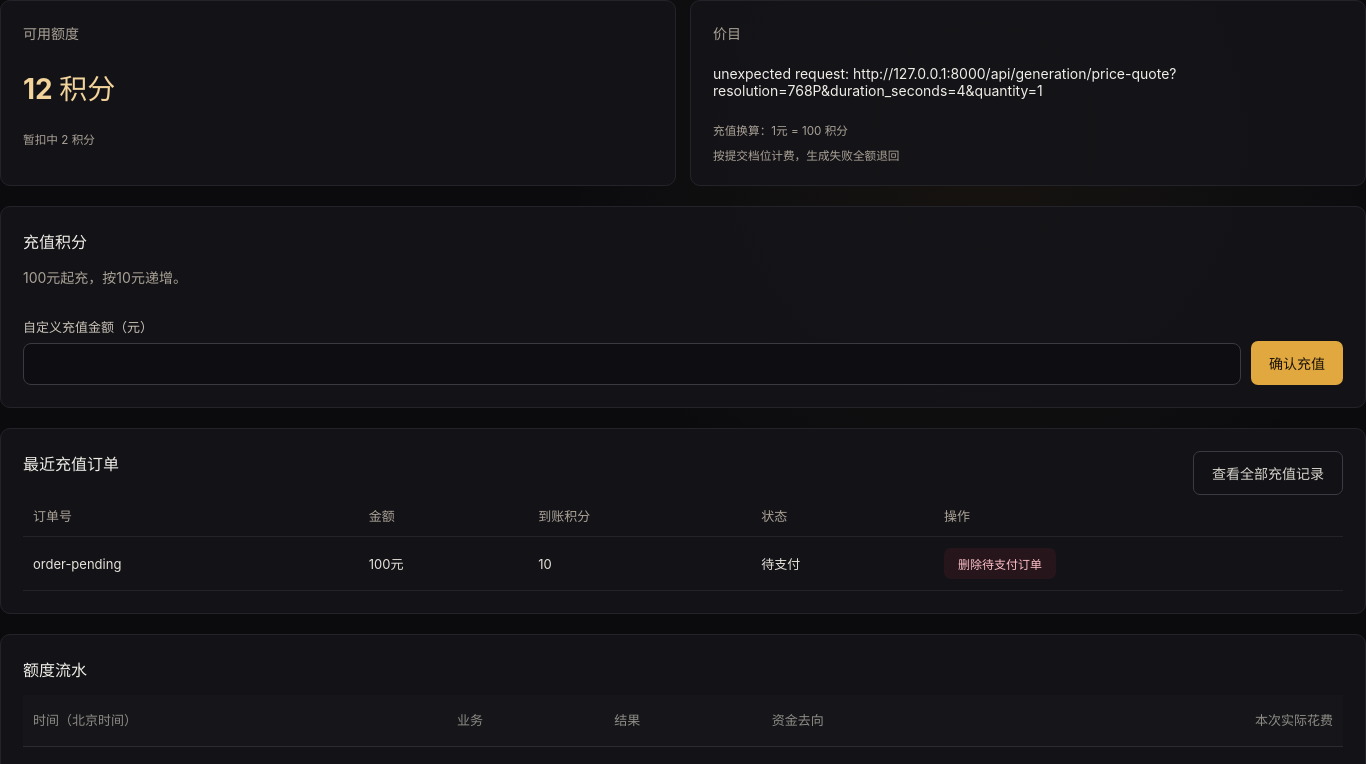
Test: CustomerWalletPanel › deletes an unpaid order from the visible list after closing it
Expected: the text "order-pending" is shown, [23,536,359,590]
Click the button "删除待支付订单".
click(1000, 564)  # box [944,548,1056,579]
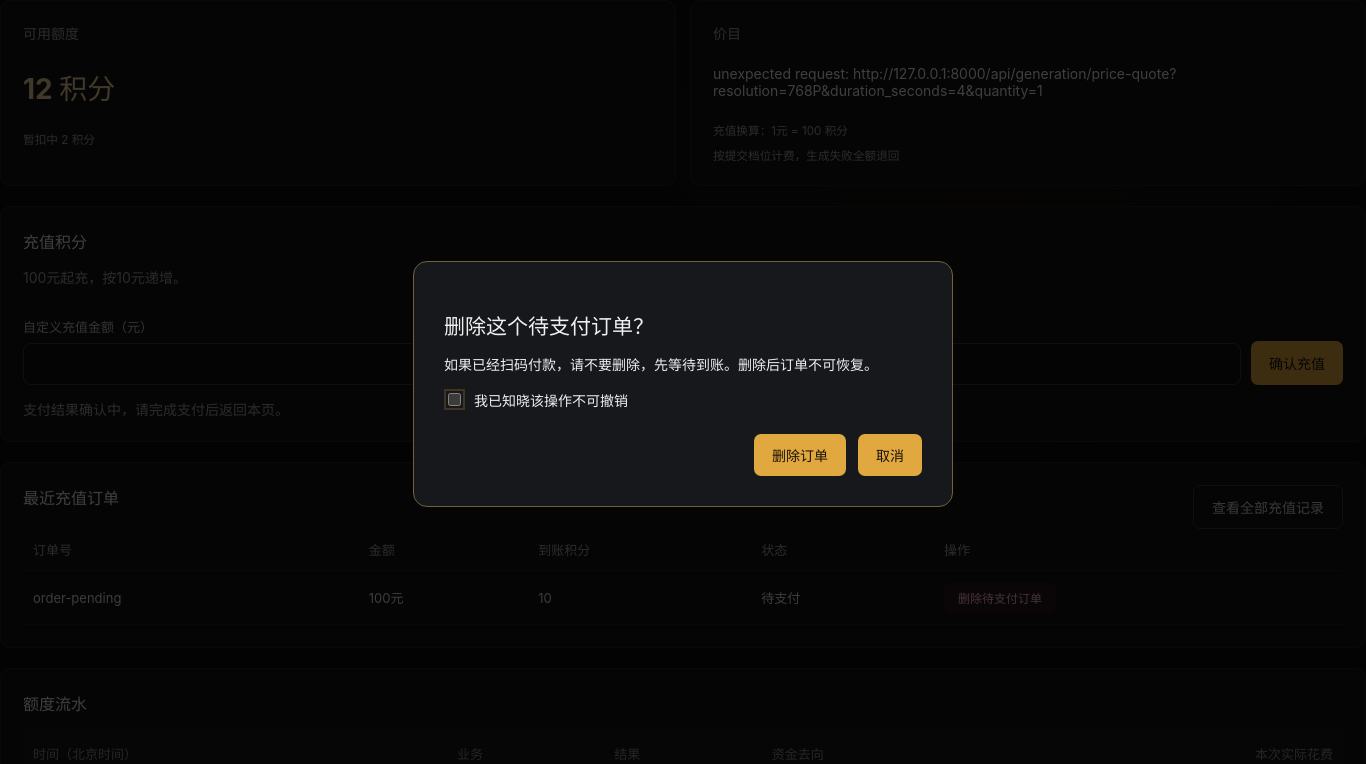
Click the checkbox.
click(454, 400)  # box [448,393,461,406]
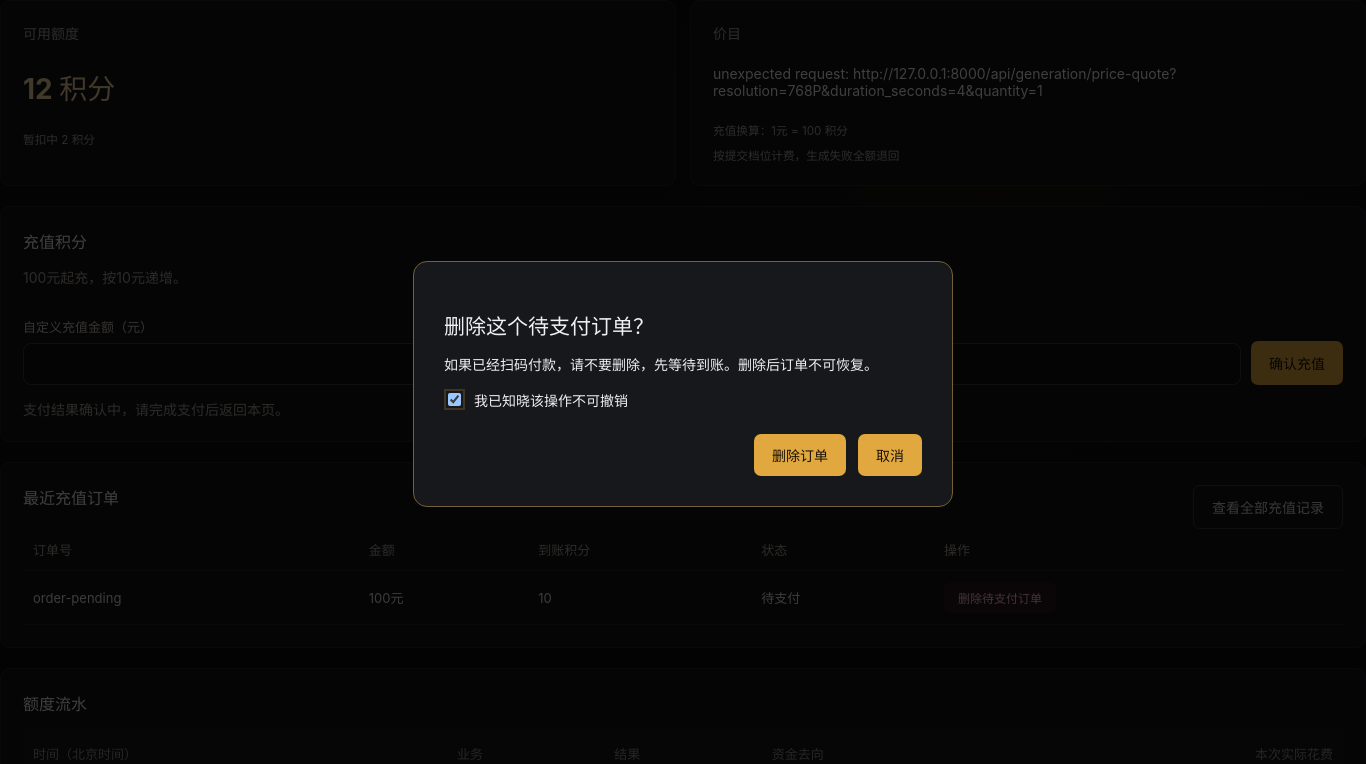
Click the button "删除订单".
click(800, 455)  # box [754,434,846,476]
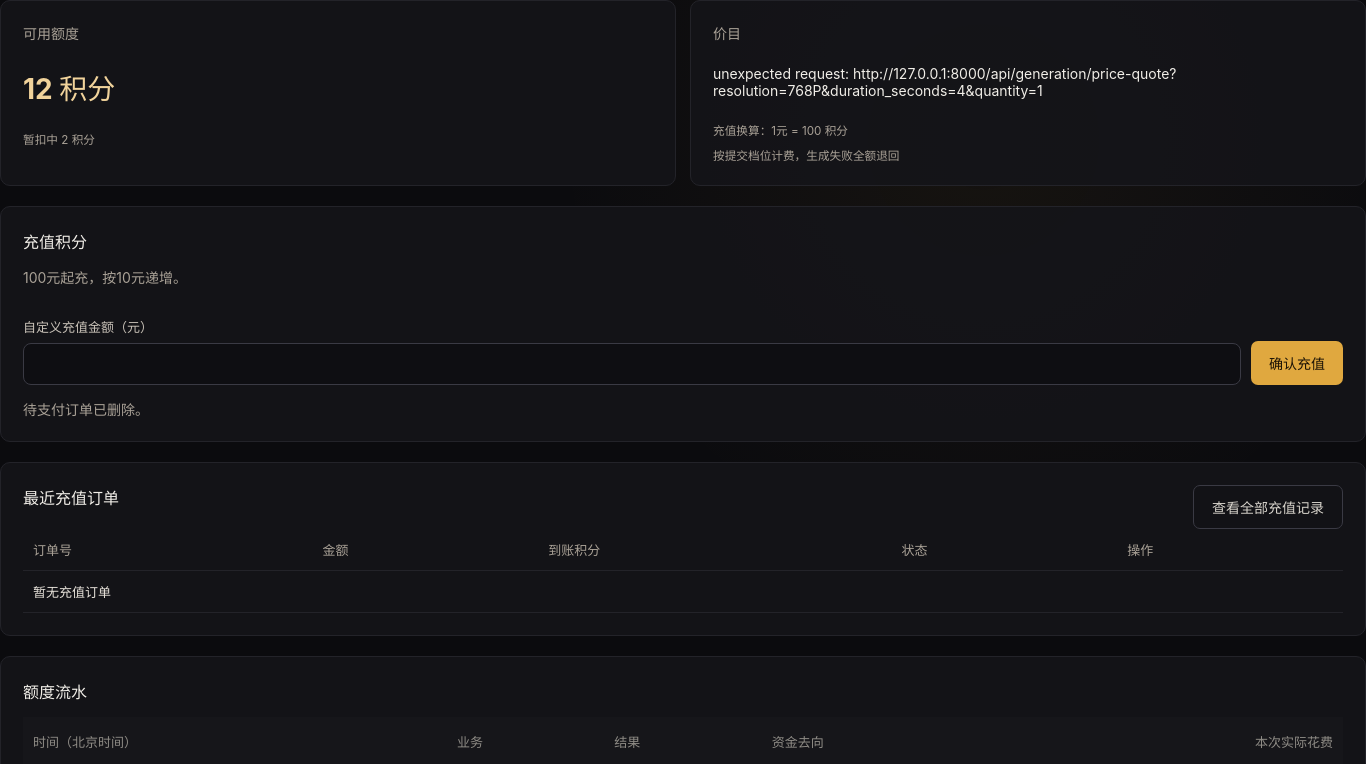
Expected: the text "order-pending" is gone
